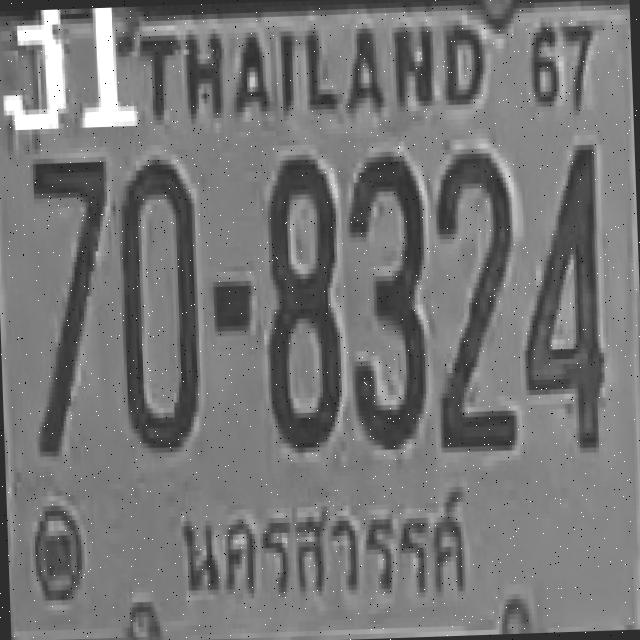0: (114, 153, 200, 448)
2: (429, 142, 518, 447)
3: (343, 150, 429, 445)
4: (516, 139, 605, 449)
7: (29, 154, 114, 454)
8: (260, 148, 340, 448)
NakhonSawan: (164, 468, 484, 626)
